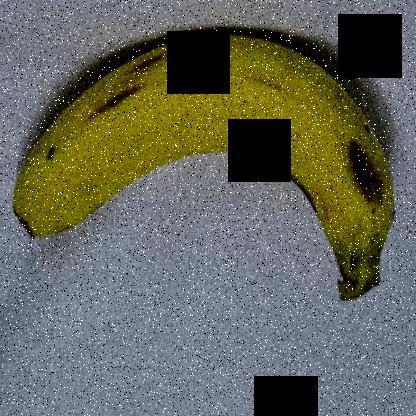freshripe: (6, 29, 402, 309)
